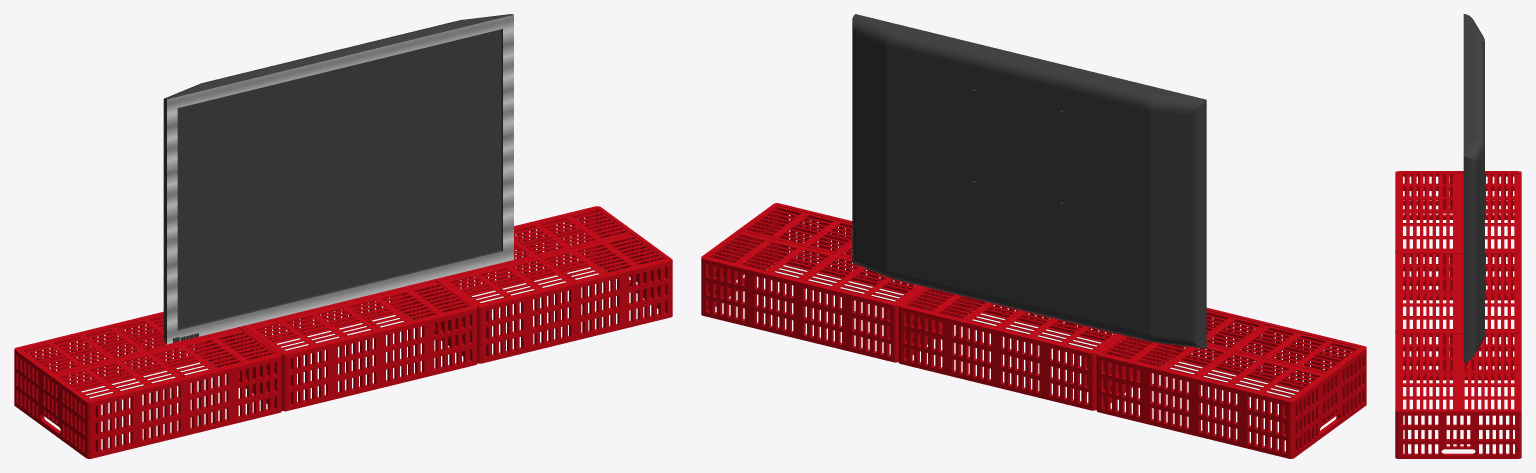
File: tv-gab-opt.glb
The picture shows the model from 3 angles, left to right: view 1: azimuth 30°, elevation 25°; view 2: azimuth 150°, elevation 25°; view 3: azimuth 270°, elevation 25°; orthographic projection. The views are drawn at different scales.
Visible parts, largest first — view 1: Opaque(64,64,64), *2, [Metal Corrugated Shiny]; view 2: Opaque(64,64,64), *2; view 3: *2, Opaque(64,64,64).
Boxes of the visible parts, left/top/right/bottom form: Opaque(64,64,64): left=163, top=14, right=513, bottom=344; *2: left=14, top=206, right=672, bottom=458; [Metal Corrugated Shiny]: left=167, top=15, right=513, bottom=344; Opaque(64,64,64): left=852, top=14, right=1206, bottom=348; *2: left=701, top=203, right=1366, bottom=458; *2: left=1395, top=171, right=1521, bottom=458; Opaque(64,64,64): left=1463, top=14, right=1484, bottom=362.
Bounding box in the file's own units: 1.35 × 0.664 × 0.3001.
4 materials, 1 textured.
